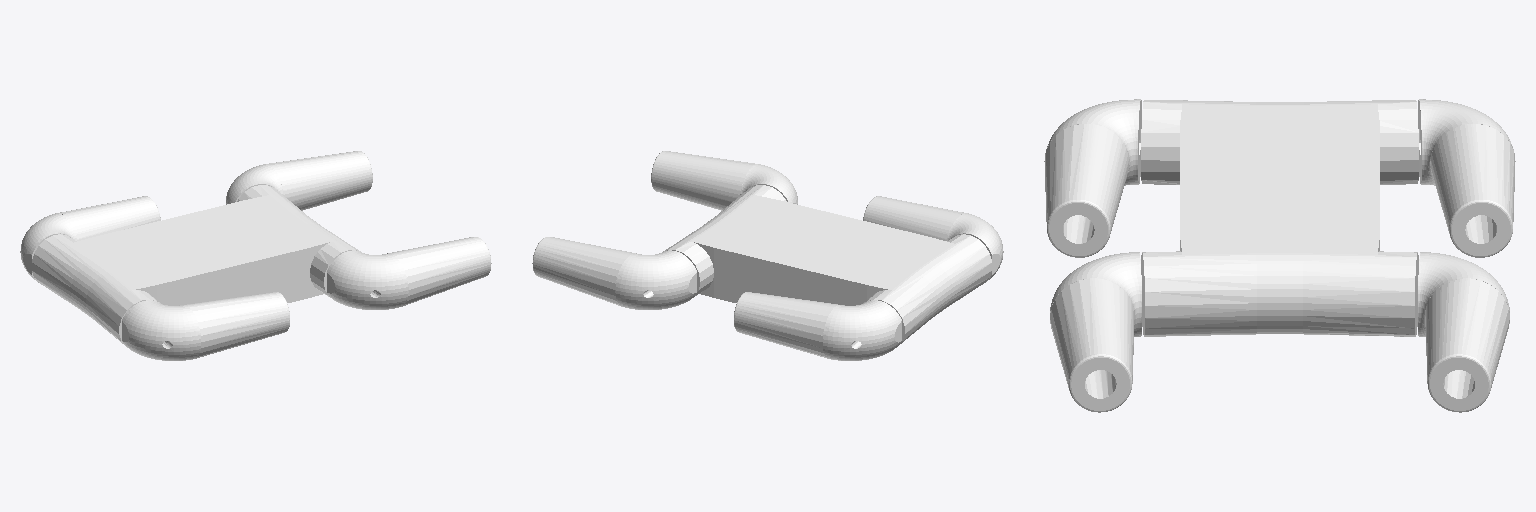
The robot description file, URDF, robot "3_degree":
<?xml version="1.0" encoding="utf-8"?>
<!-- This URDF was automatically created by SolidWorks to URDF Exporter! Originally created by [author] ([email redacted]) 
     Commit Version: 1.5.1-0-g916b5db  Build Version: 1.5.7152.31018
     For more information, please see http://wiki.ros.org/sw_urdf_exporter -->
<robot
  name="3_degree">
  <link
    name="base_link">
    <inertial>
      <origin
        xyz="-2.0817E-17 9.1158E-09 1.7347E-18"
        rpy="0 0 0" />
      <mass
        value="2.942" />
      <inertia
        ixx="0.0103032"
        ixy="1.953E-18"
        ixz="-1.4921E-10"
        iyy="0.0382165"
        iyz="7.536E-18"
        izz="0.0461326" />
    </inertial>
    <visual>
      <origin
        xyz="0 0 0"
        rpy="0 0 0" />
      <geometry>
        <mesh
          filename="package://3_degree/meshes/base_link.STL" />
      </geometry>
      <material
        name="">
        <color
          rgba="1 1 1 1" />
      </material>
    </visual>
    <collision>
      <origin
        xyz="0 0 0"
        rpy="0 0 0" />
      <geometry>
        <mesh
          filename="package://3_degree/meshes/base_link.STL" />
      </geometry>
    </collision>
  </link>
  <link
    name="left_front_link">
    <inertial>
      <origin
        xyz="-4.2668E-09 0.058636 -0.032987"
        rpy="0 0 0" />
      <mass
        value="0.092" />
      <inertia
        ixx="0.0002604"
        ixy="5.248E-10"
        ixz="9.524E-10"
        iyy="0.0000508"
        iyz="1.18E-05"
        izz="0.0002593" />
    </inertial>
    <visual>
      <origin
        xyz="0 0 0"
        rpy="0 0 0" />
      <geometry>
        <mesh
          filename="package://3_degree/meshes/left_front_link.STL" />
      </geometry>
      <material
        name="">
        <color
          rgba="1 1 1 1" />
      </material>
    </visual>
    <collision>
      <origin
        xyz="0 0 0"
        rpy="0 0 0" />
      <geometry>
        <mesh
          filename="package://3_degree/meshes/left_front_link.STL" />
      </geometry>
    </collision>
  </link>
  <joint
    name="left_front_leg"
    type="continuous">
    <origin
      xyz="0.13539 0.10286 0"
      rpy="1.5708 1.5708 0" />
    <parent
      link="base_link" />
    <child
      link="left_front_link" />
    <axis
      xyz="0 0.052336 -0.99863" />
    <limit
      effort="5"
      velocity="487" />
  </joint>
  <link
    name="right_front_link">
    <inertial>
      <origin
        xyz="4.2668E-09 0.058636 0.032987"
        rpy="0 0 0" />
      <mass
        value="0.092" />
      <inertia
        ixx="0.0002604"
        ixy="-5.248E-10"
        ixz="9.524E-10"
        iyy="0.0000508"
        iyz="-1.18E-05"
        izz="0.0002593" />
    </inertial>
    <visual>
      <origin
        xyz="0 0 0"
        rpy="0 0 0" />
      <geometry>
        <mesh
          filename="package://3_degree/meshes/right_front_link.STL" />
      </geometry>
      <material
        name="">
        <color
          rgba="1 1 1 1" />
      </material>
    </visual>
    <collision>
      <origin
        xyz="0 0 0"
        rpy="0 0 0" />
      <geometry>
        <mesh
          filename="package://3_degree/meshes/right_front_link.STL" />
      </geometry>
    </collision>
  </link>
  <joint
    name="right_front_leg"
    type="continuous">
    <origin
      xyz="0.13539 -0.10286 0"
      rpy="1.5708 1.5708 0" />
    <parent
      link="base_link" />
    <child
      link="right_front_link" />
    <axis
      xyz="0 0.052336 0.99863" />
    <limit
      effort="5"
      velocity="487" />
  </joint>
  <link
    name="right_back_link">
    <inertial>
      <origin
        xyz="8.5792E-09 0.05683 0.036011"
        rpy="0 0 0" />
      <mass
        value="0.092" />
      <inertia
        ixx="0.0002604"
        ixy="-6.9894E-10"
        ixz="7.0226E-10"
        iyy="0.0000526"
        iyz="-2.27E-05"
        izz="0.0002575" />
    </inertial>
    <visual>
      <origin
        xyz="0 0 0"
        rpy="0 0 0" />
      <geometry>
        <mesh
          filename="package://3_degree/meshes/right_back_link.STL" />
      </geometry>
      <material
        name="">
        <color
          rgba="1 1 1 1" />
      </material>
    </visual>
    <collision>
      <origin
        xyz="0 0 0"
        rpy="0 0 0" />
      <geometry>
        <mesh
          filename="package://3_degree/meshes/right_back_link.STL" />
      </geometry>
    </collision>
  </link>
  <joint
    name="right_back_leg"
    type="continuous">
    <origin
      xyz="-0.13539 -0.10286 0"
      rpy="0.05236 1.5708 -1.5708" />
    <parent
      link="base_link" />
    <child
      link="right_back_link" />
    <axis
      xyz="0 0 1" />
    <limit
      effort="5"
      velocity="487" />
  </joint>
  <link
    name="left_back_link">
    <inertial>
      <origin
        xyz="-8.5792E-09 0.054867 -0.038935"
        rpy="0 0 0" />
      <mass
        value="0.092" />
      <inertia
        ixx="0.0002604"
        ixy="7.3474E-10"
        ixz="6.6471E-10"
        iyy="0.0000555"
        iyz="0.0000333"
        izz="0.0002546" />
    </inertial>
    <visual>
      <origin
        xyz="0 0 0"
        rpy="0 0 0" />
      <geometry>
        <mesh
          filename="package://3_degree/meshes/left_back_link.STL" />
      </geometry>
      <material
        name="">
        <color
          rgba="1 1 1 1" />
      </material>
    </visual>
    <collision>
      <origin
        xyz="0 0 0"
        rpy="0 0 0" />
      <geometry>
        <mesh
          filename="package://3_degree/meshes/left_back_link.STL" />
      </geometry>
    </collision>
  </link>
  <joint
    name="left_back_leg"
    type="continuous">
    <origin
      xyz="-0.13539 0.10286 0"
      rpy="1.5708 1.5708 0" />
    <parent
      link="base_link" />
    <child
      link="left_back_link" />
    <axis
      xyz="0 -0.052336 -0.99863" />
    <limit
      effort="5"
      velocity="487" />
  </joint>
</robot>

--- Facts derived from the render (not from the file) ---
3 views of the same robot in one strip: view 1: azimuth 30°, elevation 25°; view 2: azimuth 150°, elevation 25°; view 3: azimuth 270°, elevation 25° (orthographic).
Robot: 3_degree — 5 links, 4 joints (4 continuous); root link base_link; default pose: all joints at 0.
Links seen in each view (by area): view 1: base_link, right_back_link, right_front_link, left_front_link, left_back_link; view 2: base_link, left_back_link, left_front_link, right_front_link, right_back_link; view 3: base_link, right_back_link, left_back_link, left_front_link, right_front_link.
Link boxes in pixels (box(x1,y1,x2,y2)): base_link: box(32, 185, 360, 343); right_back_link: box(122, 292, 289, 360); right_front_link: box(327, 237, 491, 309); left_front_link: box(226, 151, 372, 210); left_back_link: box(20, 196, 160, 282); base_link: box(663, 185, 991, 343); left_back_link: box(734, 292, 901, 360); left_front_link: box(532, 237, 696, 309); right_front_link: box(651, 151, 797, 210); right_back_link: box(863, 196, 1003, 282); base_link: box(1141, 100, 1418, 336); right_back_link: box(1044, 99, 1141, 257); left_back_link: box(1418, 99, 1515, 257); left_front_link: box(1418, 252, 1509, 412); right_front_link: box(1050, 252, 1141, 412).
Bounding box of the posed robot: 0.4633 × 0.3539 × 0.064 m (x, y, z).
Meshes: 5 distinct files referenced, 5 mesh visuals loaded (5 binary STL).